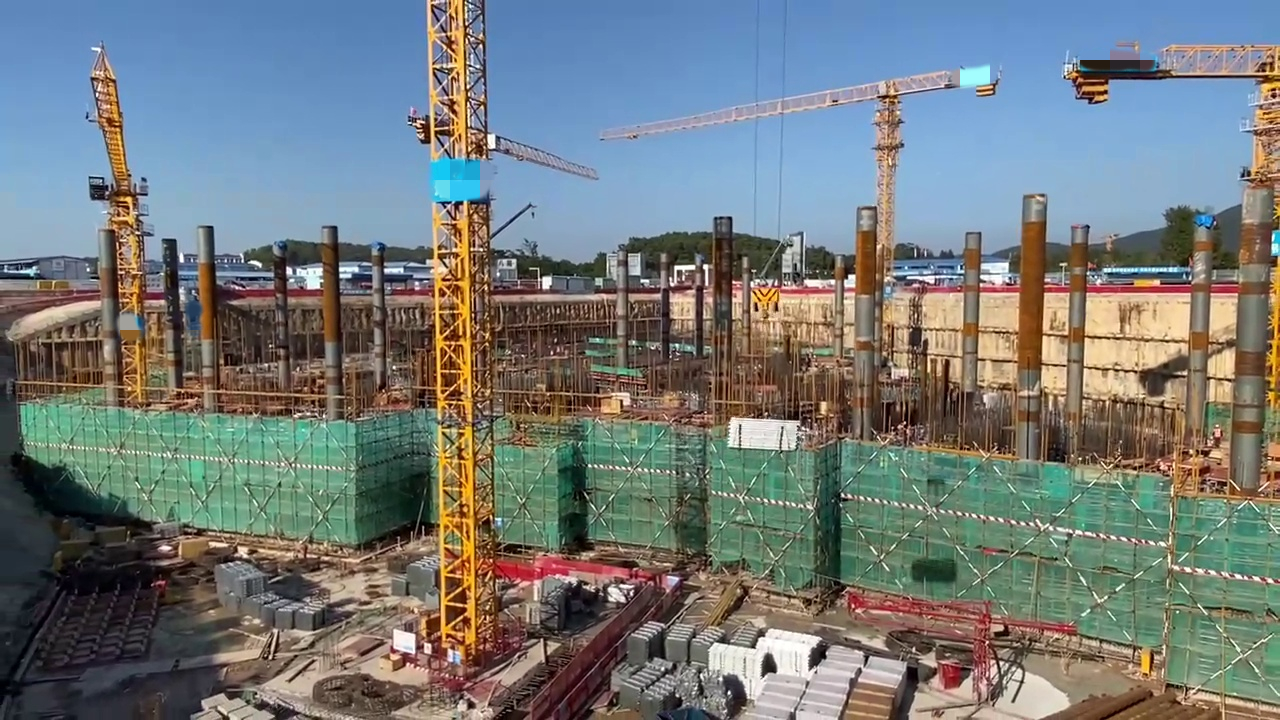board: (847, 680, 890, 720)
fence: (535, 551, 636, 583), (495, 556, 537, 580)
hook: (752, 284, 782, 305)
scaffold: (621, 661, 733, 720), (629, 616, 757, 661), (214, 559, 275, 621), (709, 641, 766, 703), (252, 589, 336, 629), (761, 628, 822, 676), (728, 417, 800, 449), (403, 555, 441, 603)
